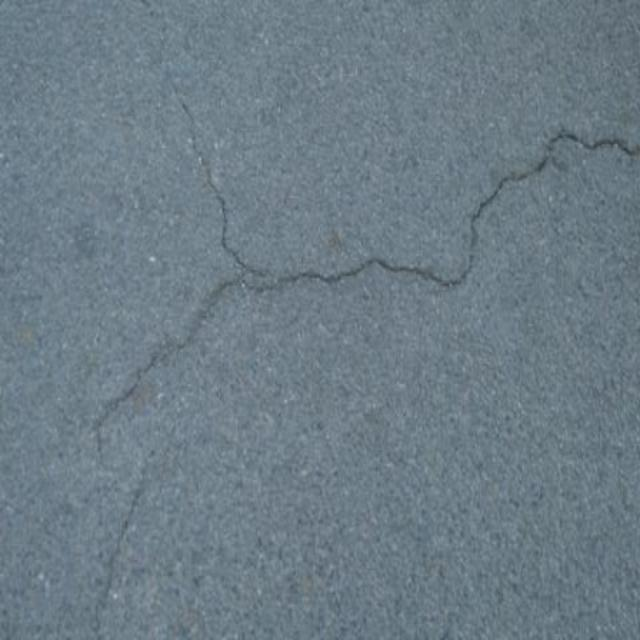GRIETA: (258, 131, 639, 290), (92, 279, 254, 452), (171, 80, 266, 276), (96, 454, 152, 639)
